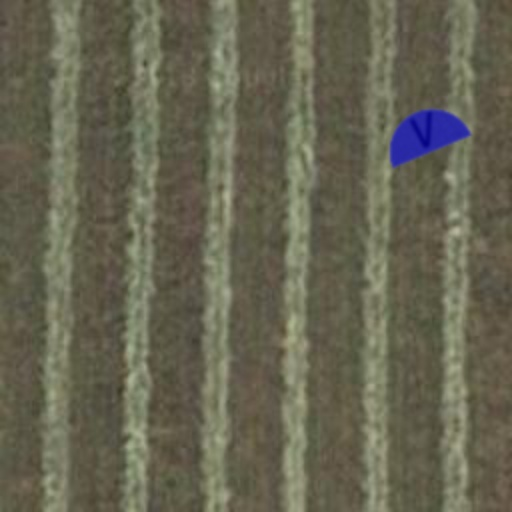semicircle: (366, 74, 482, 190)
